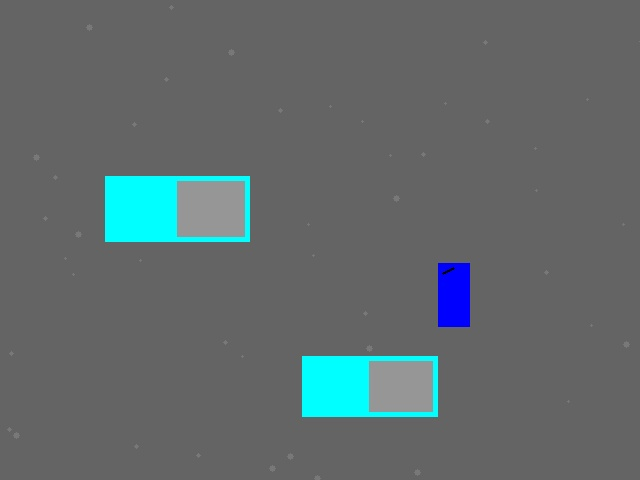motorcycle: (438, 263, 469, 326)
truck: (105, 176, 249, 241), (302, 356, 437, 416)
